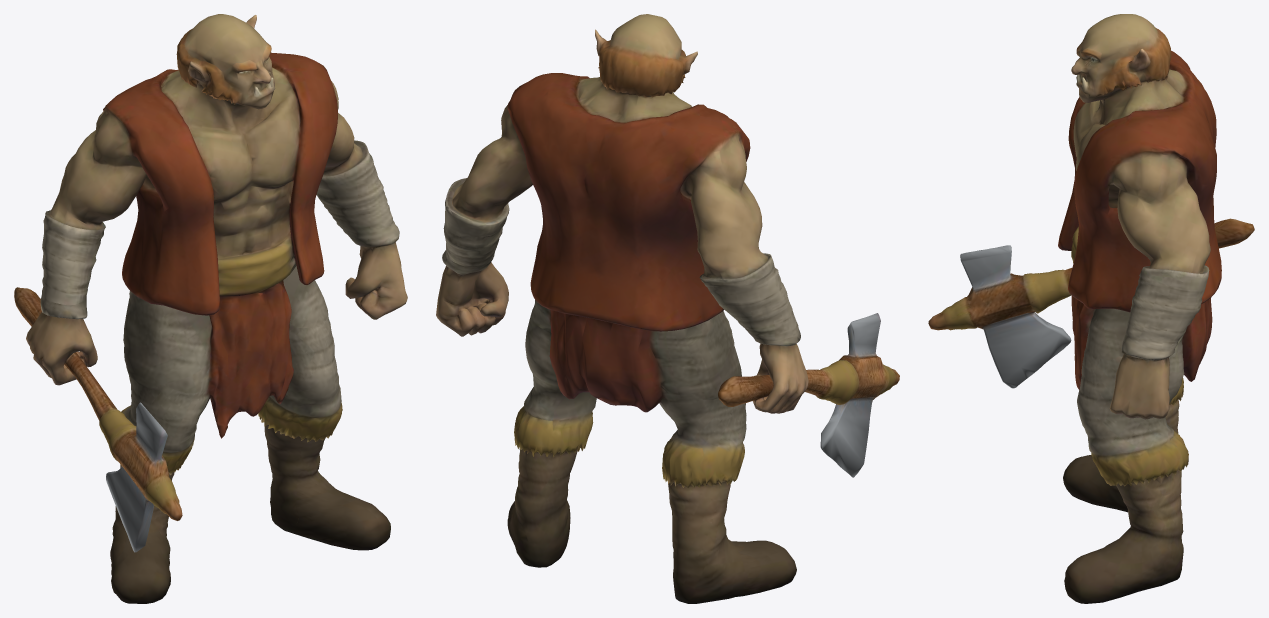
Rendered from MZ4250 - Half Ogre Updated.glb.
3 renders of one model, left to right at view 1: azimuth 30°, elevation 25°; view 2: azimuth 150°, elevation 25°; view 3: azimuth 270°, elevation 25°, orthographic. The views are drawn at different scales.
Visible parts, largest first — view 1: Half Ogre Updated_low.002; view 2: Half Ogre Updated_low.002; view 3: Half Ogre Updated_low.002.
Part boxes in pixels (<box>): Half Ogre Updated_low.002: <box>14,14,407,603</box>; Half Ogre Updated_low.002: <box>436,14,899,603</box>; Half Ogre Updated_low.002: <box>928,14,1254,603</box>.
Bounding box in the file's own units: 3.24 × 4.67 × 2.64.
1 material, 1 textured.
